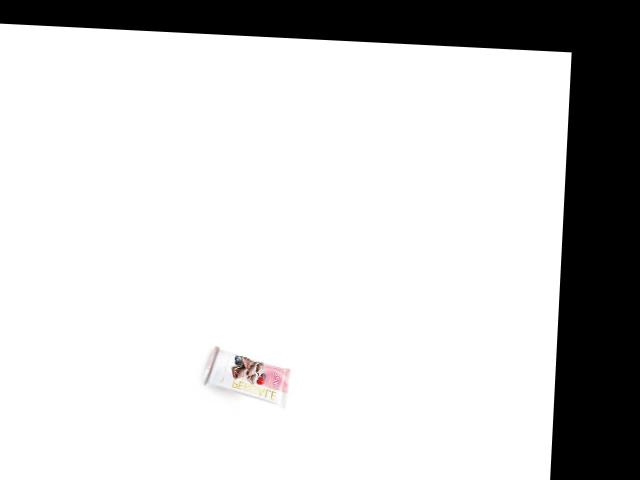chocolate: (204, 343, 291, 408)
